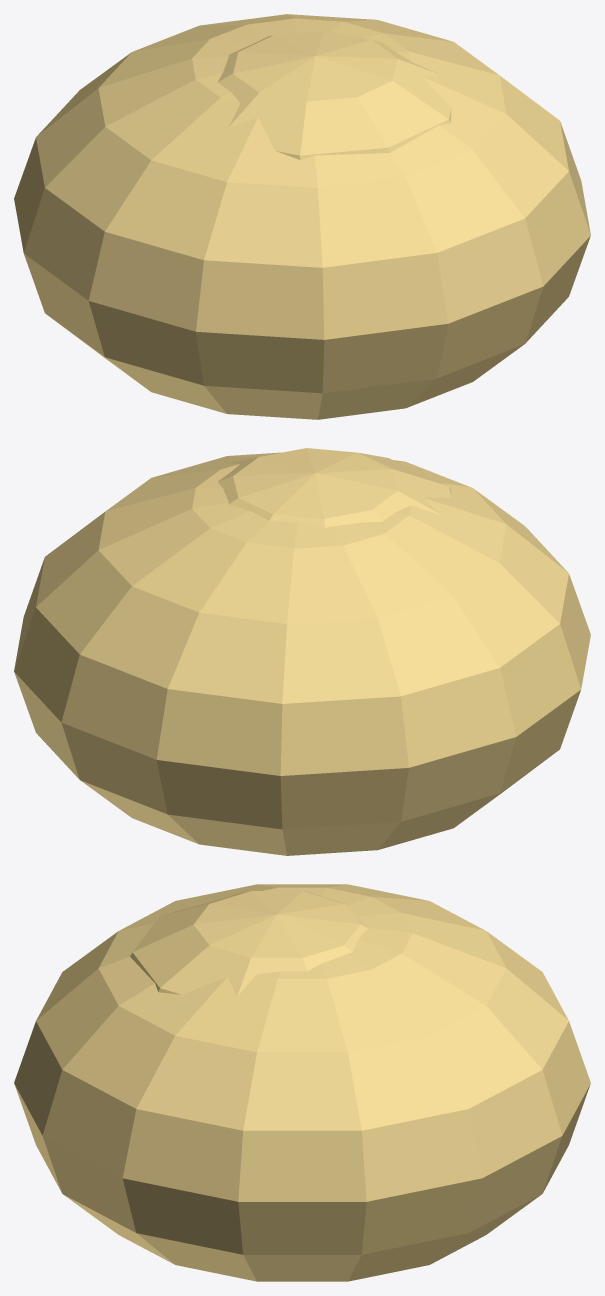
The model's file is Beanbag.fbx.
The picture shows the model from 3 angles, top to bottom: view 1: azimuth 30°, elevation 25°; view 2: azimuth 150°, elevation 25°; view 3: azimuth 270°, elevation 25°; orthographic projection.
Parts seen in each view (by area): view 1: Beanbag; view 2: Beanbag; view 3: Beanbag.
Part boxes in pixels (<box>): Beanbag: <box>14,14,590,419</box>; Beanbag: <box>14,448,590,855</box>; Beanbag: <box>14,884,590,1281</box>.
Bounding box in the file's own units: 0.8774 × 0.569 × 0.9.
